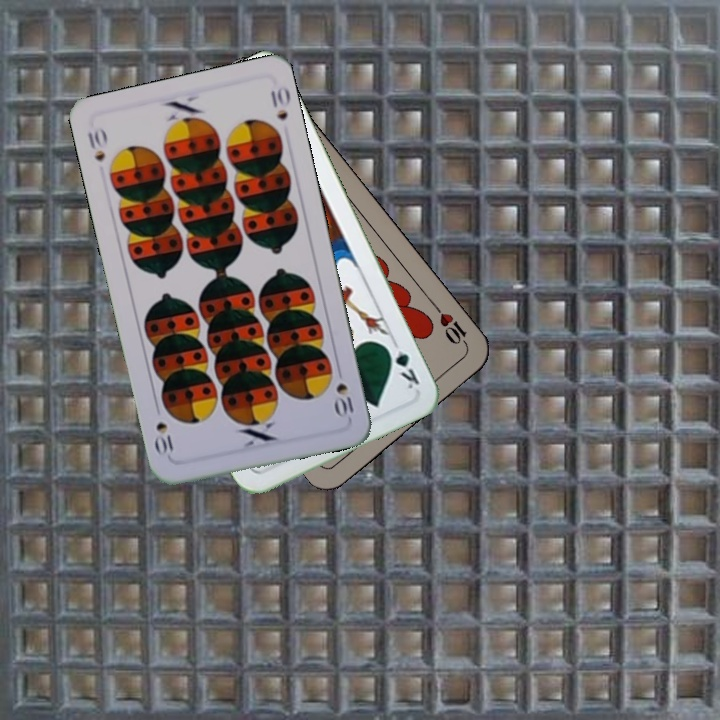GK: (381, 336, 423, 392)
H10: (429, 301, 472, 352)
S10: (83, 123, 110, 165), (331, 379, 356, 421)
